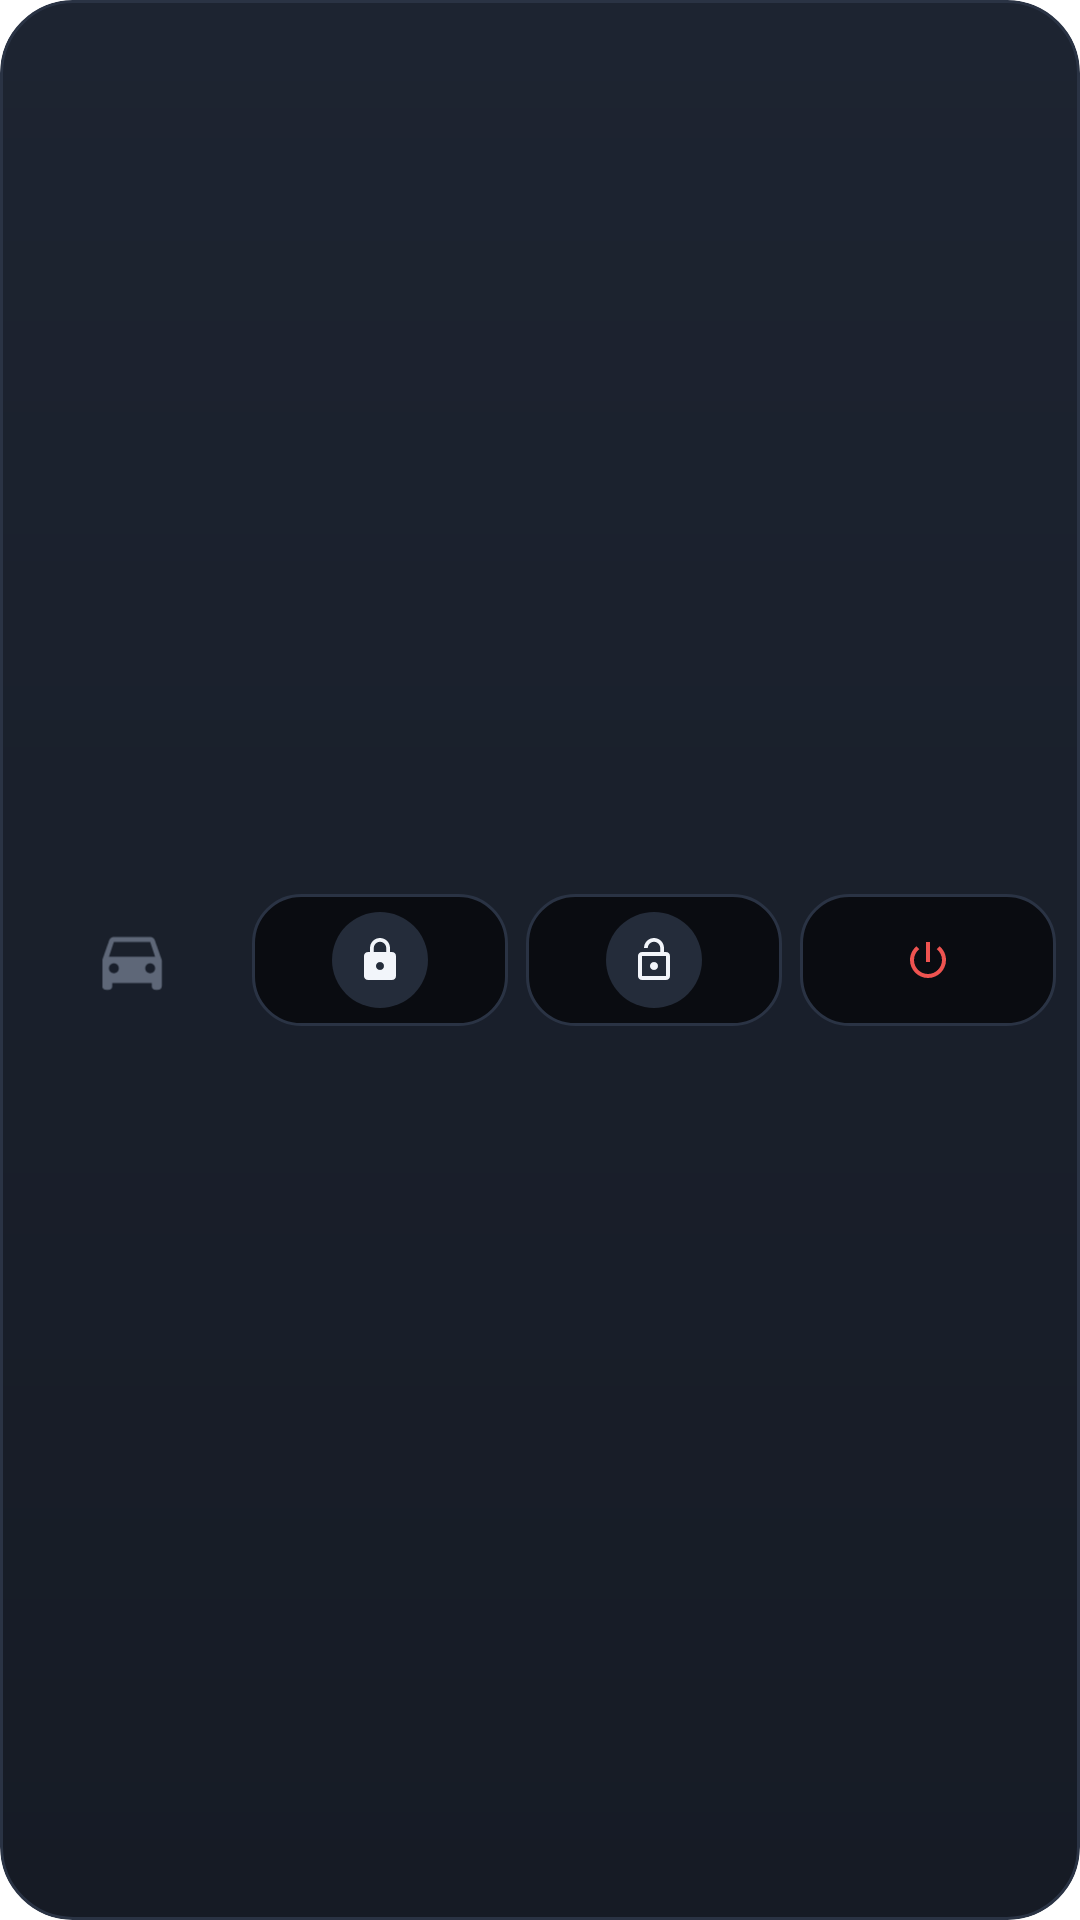

Screen size 1080×1920. Icon name, then its center in pixels as [x,y]:
Imagem do veículo: [132,963]
lock: [380,960]
lock open: [654,960]
power: [928,960]
